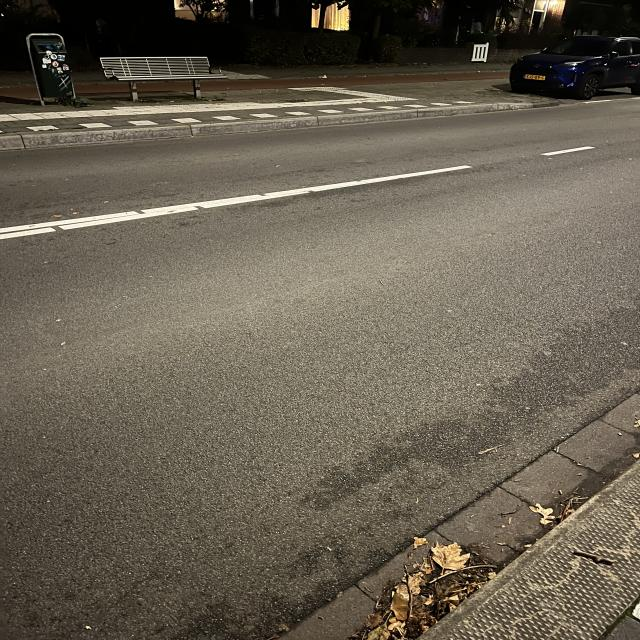leaves: (390, 538, 482, 640)
pavement: (8, 92, 633, 637)
